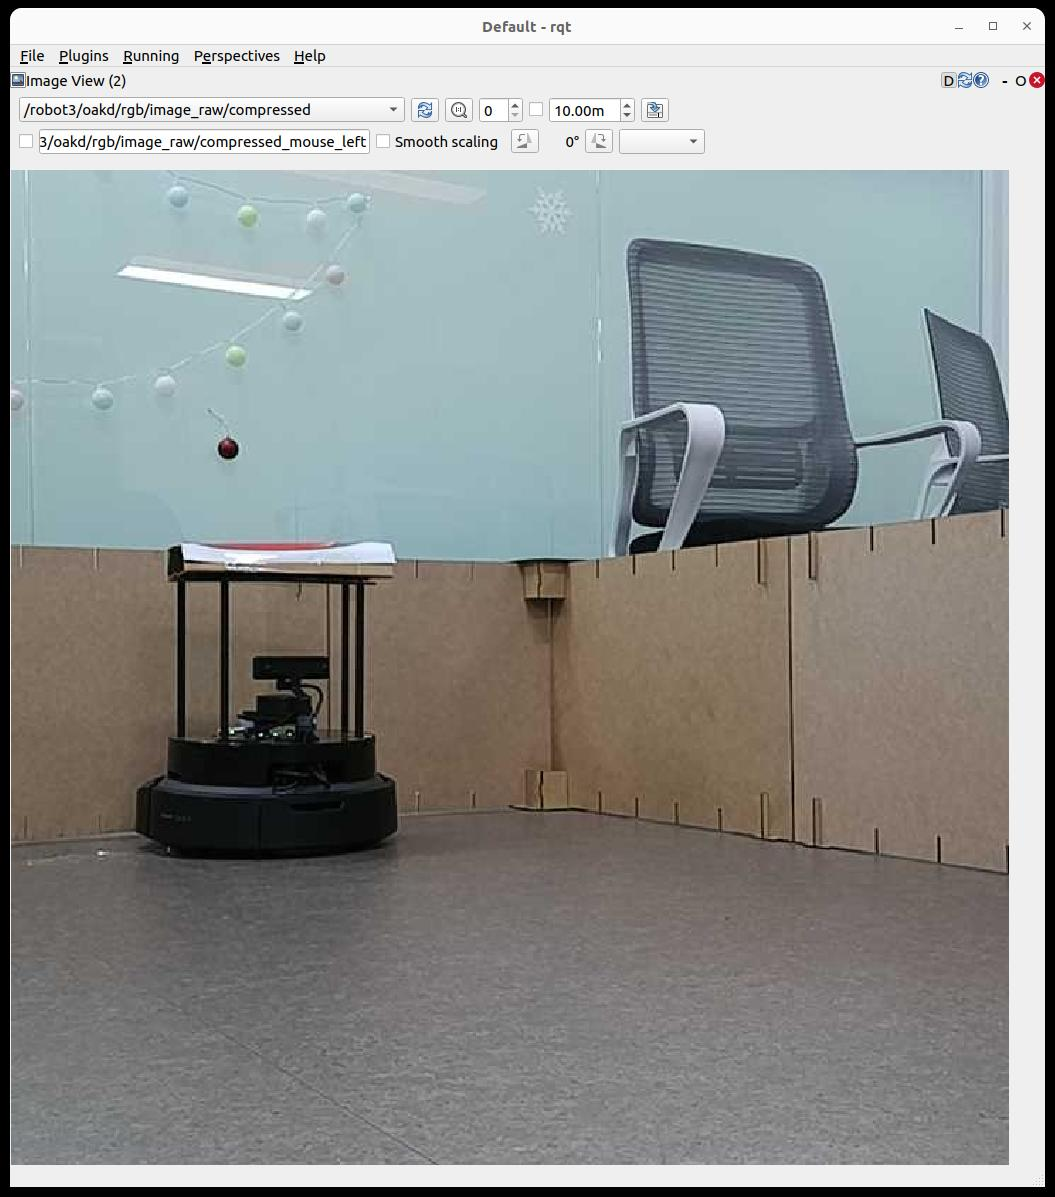AED: (168, 541, 395, 579)
Robot: (137, 580, 397, 854)
